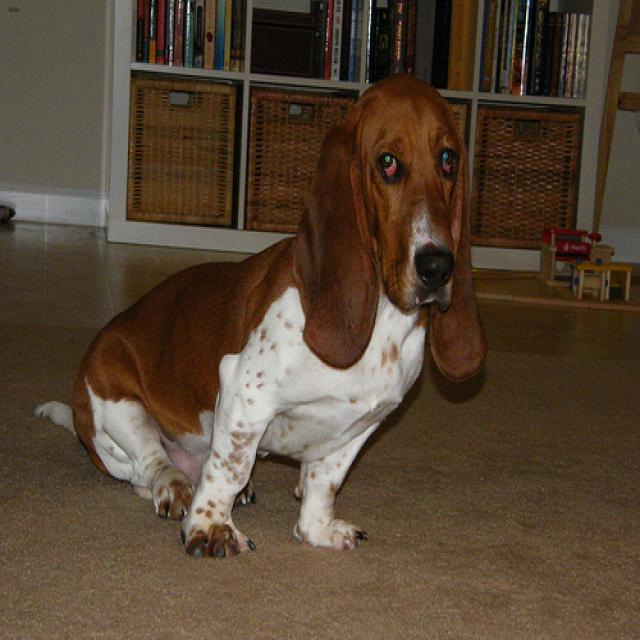dog-basset_hound: (31, 61, 492, 570)
